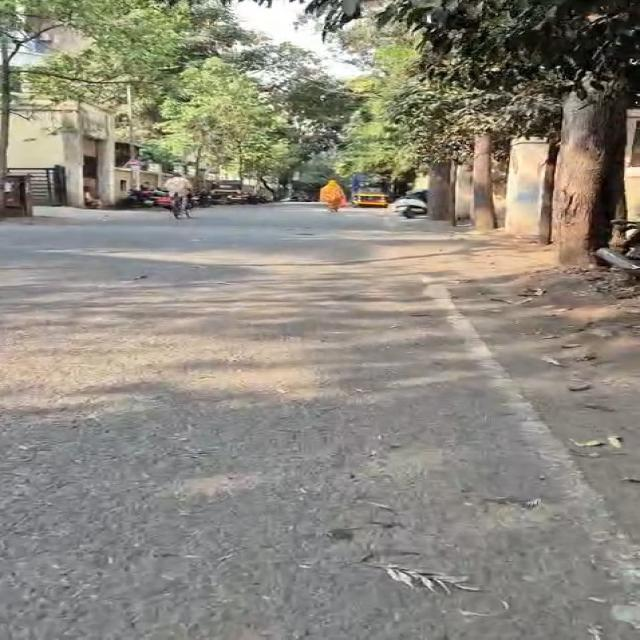obstacle: (126, 83, 136, 159), (128, 83, 137, 161)
vehicle: (391, 191, 428, 218)
